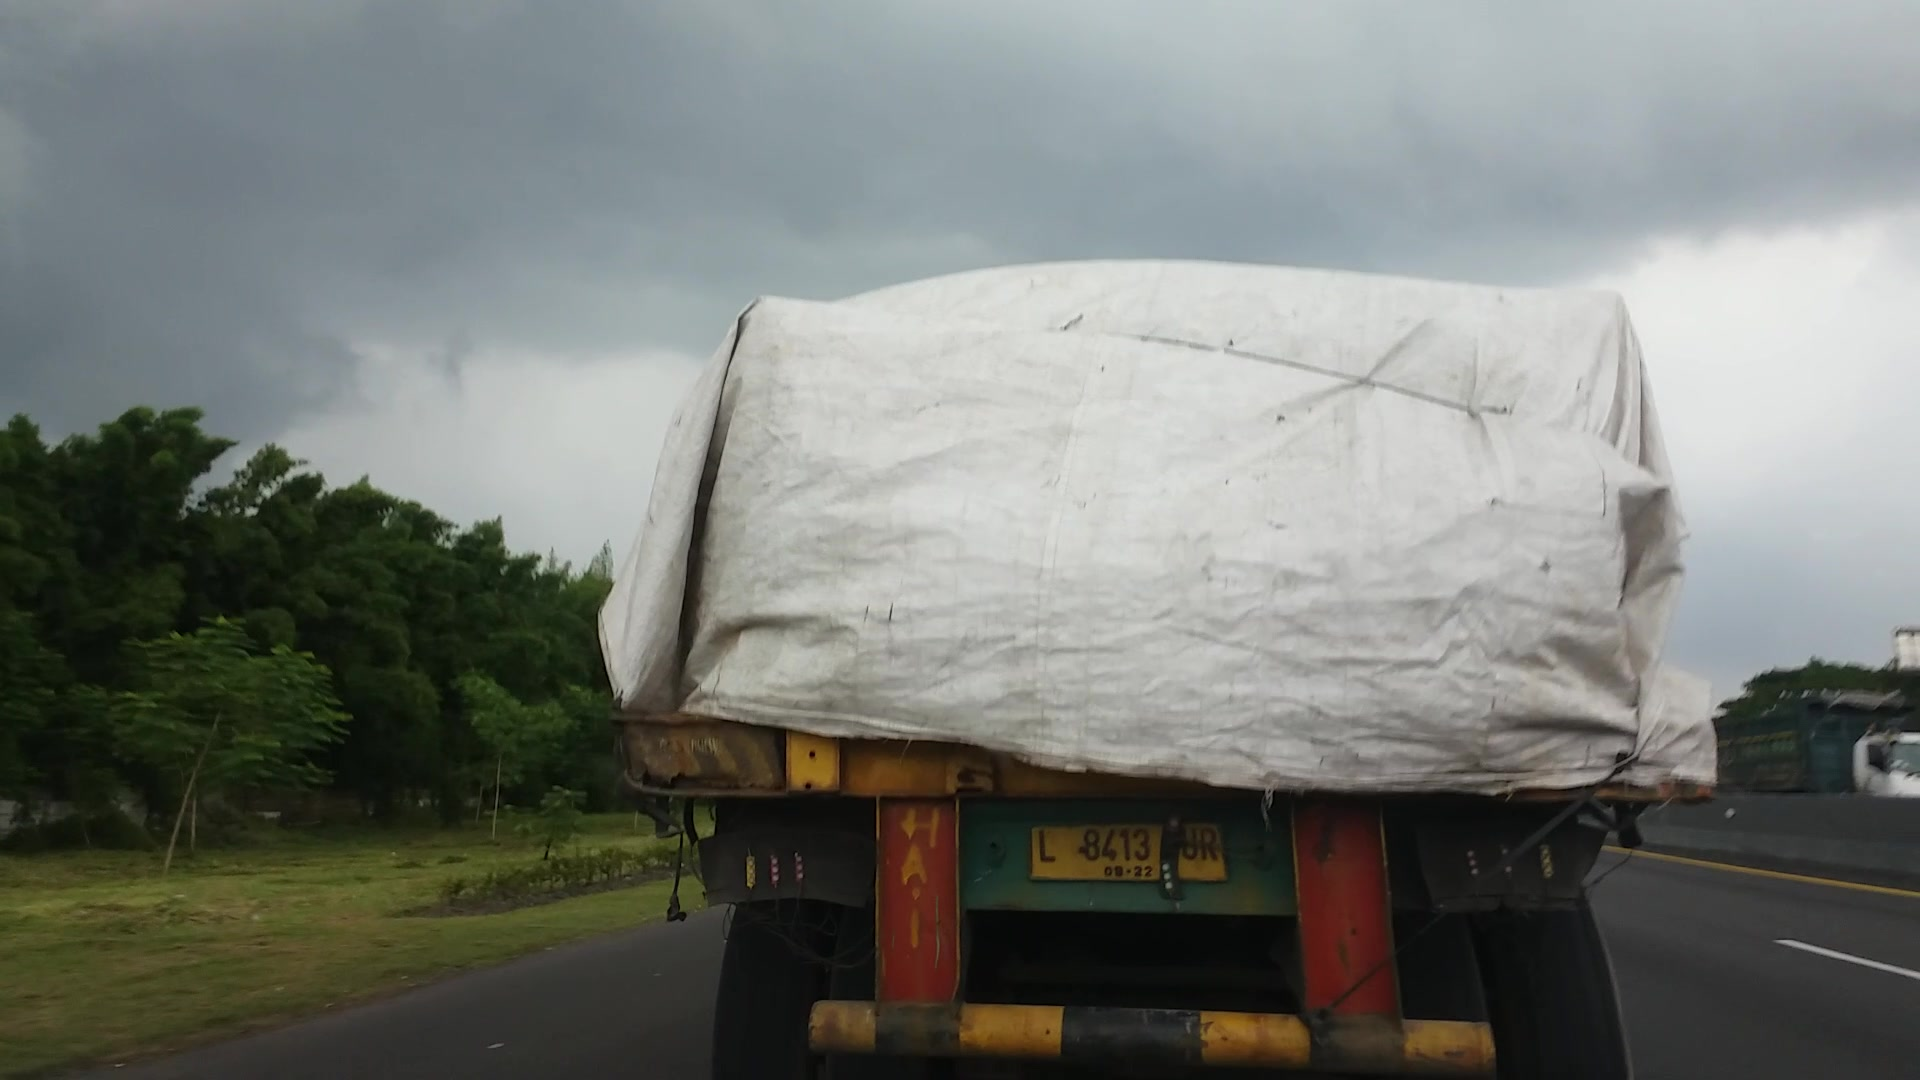plate_positive: (1029, 820, 1226, 882)
